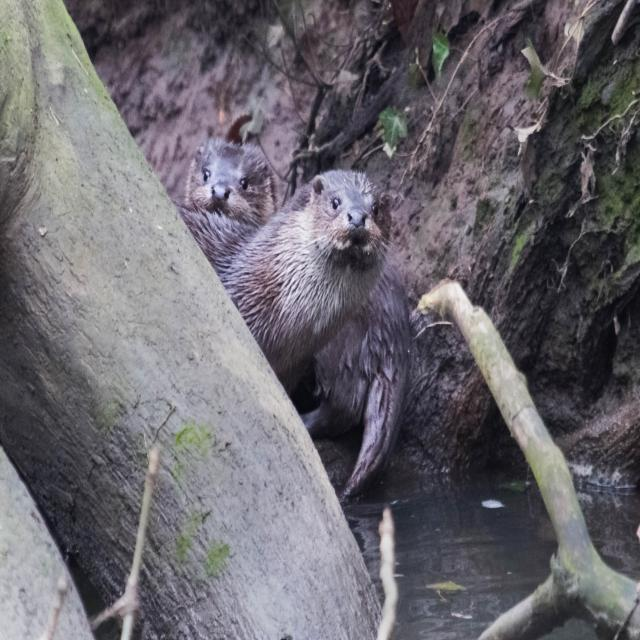otter: (195, 144, 407, 501), (185, 175, 391, 360)
